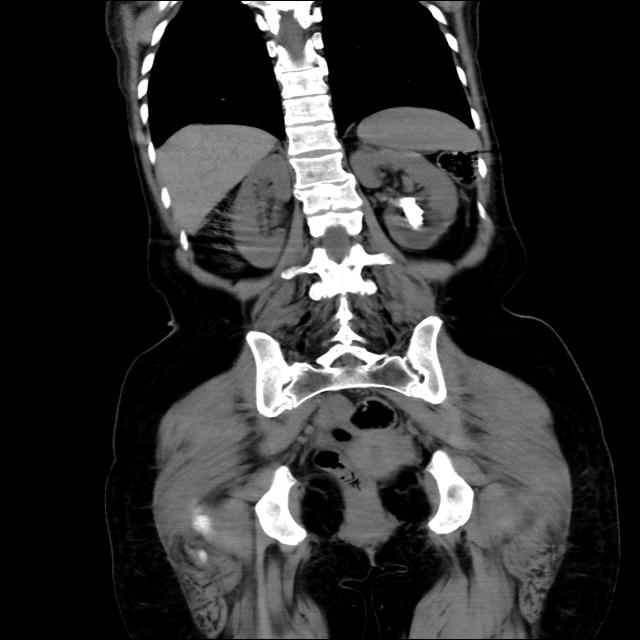kidneystone: (400, 198, 424, 229)
